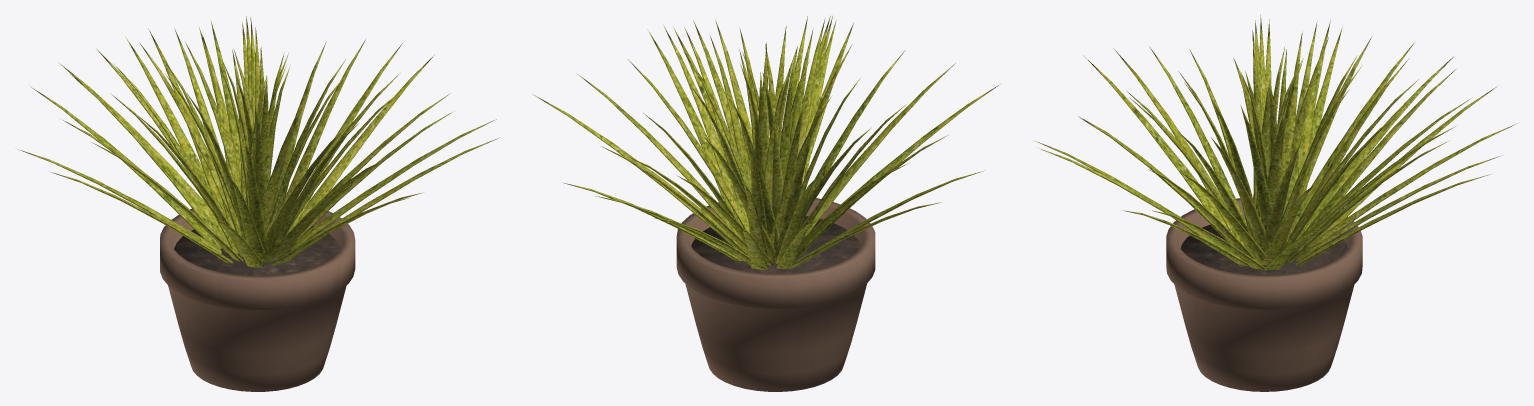
File: spiderplant.fbx
3 views of the same model, side by side, from view 1: azimuth 30°, elevation 25°; view 2: azimuth 150°, elevation 25°; view 3: azimuth 270°, elevation 25° (orthographic).
Visible parts, largest first — view 1: SpiderPlant; view 2: SpiderPlant; view 3: SpiderPlant.
Part boxes in pixels (x1,y1,x2,y2): SpiderPlant: (17,16,498,391); SpiderPlant: (532,16,1001,391); SpiderPlant: (1034,14,1515,391).
Bounding box in the file's own units: 3266 × 2257 × 3282.
